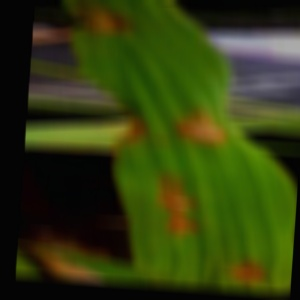Brown_Spot: (68, 0, 138, 49), (175, 97, 232, 154), (156, 163, 205, 213), (224, 250, 272, 291), (155, 215, 208, 249)
